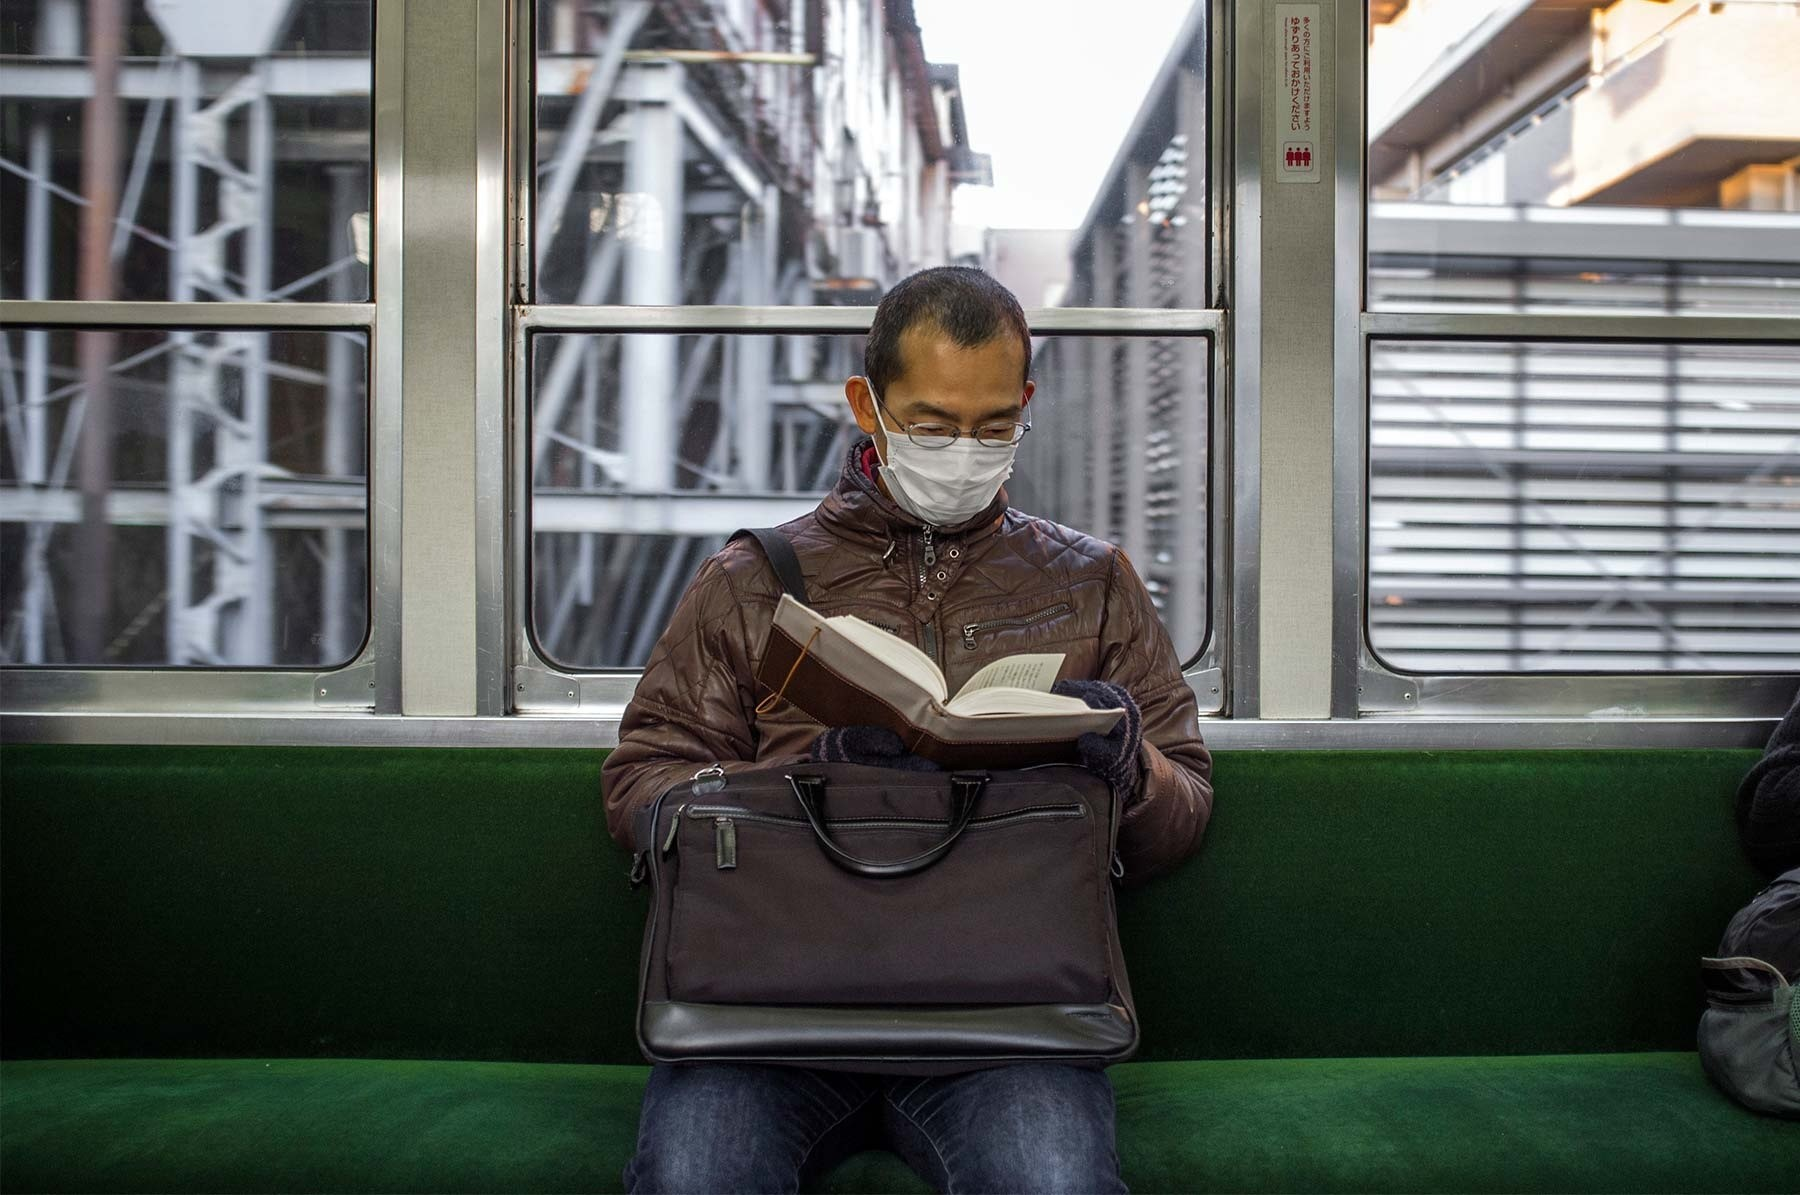face_with_mask: (842, 263, 1038, 533)
